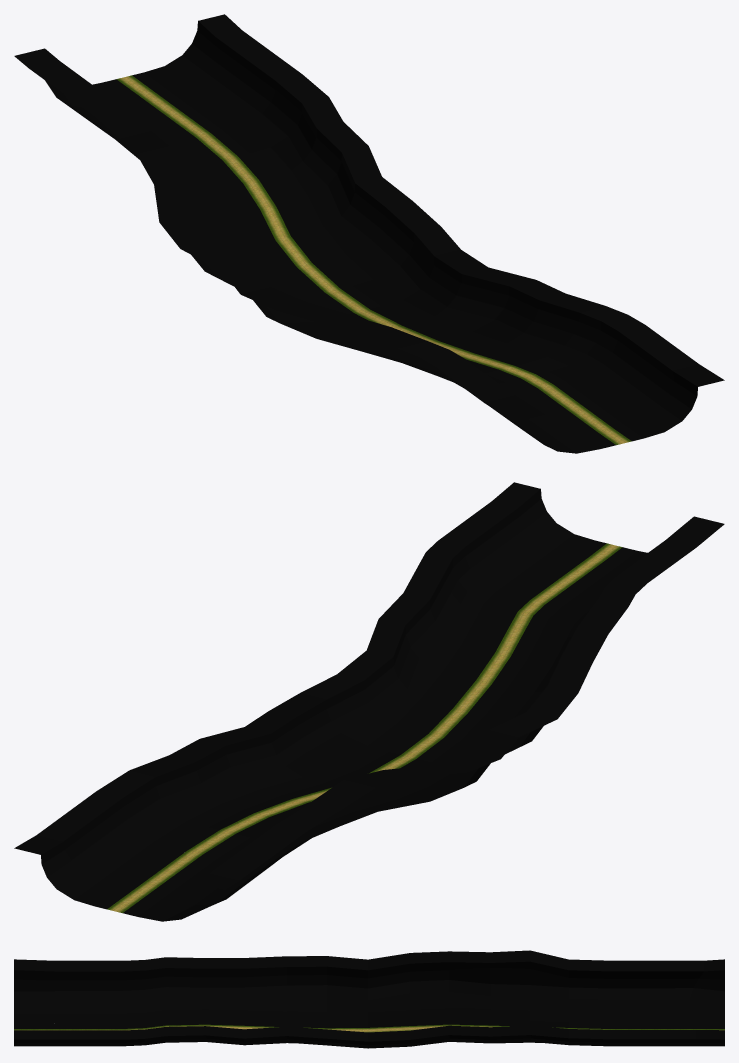
Rendered from street_3.fbx.
3 views of the same model, one above another, from view 1: azimuth 30°, elevation 25°; view 2: azimuth 150°, elevation 25°; view 3: azimuth 270°, elevation 25° (orthographic). The views are drawn at different scales.
Visible parts, largest first — view 1: polySurface3825, Object06; view 2: polySurface3825, Object06; view 3: polySurface3825, Object06.
Boxes of the visible parts, left/top/right/bottom form: polySurface3825: left=14, top=14, right=724, bottom=453; Object06: left=116, top=75, right=631, bottom=444; polySurface3825: left=14, top=482, right=724, bottom=921; Object06: left=107, top=543, right=622, bottom=912; polySurface3825: left=14, top=950, right=724, bottom=1048; Object06: left=14, top=1024, right=724, bottom=1032.
Bounding box in the file's own units: 23381 × 6125 × 76200.
